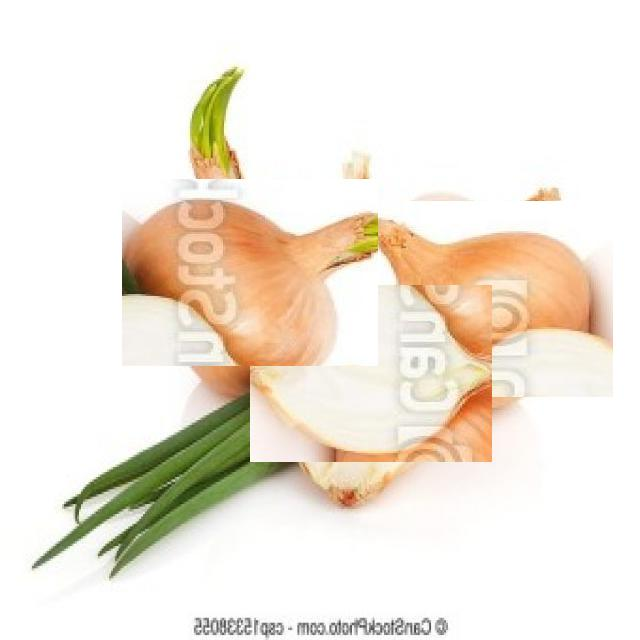Onion: (365, 183, 596, 414), (138, 161, 360, 383), (266, 268, 476, 478)
